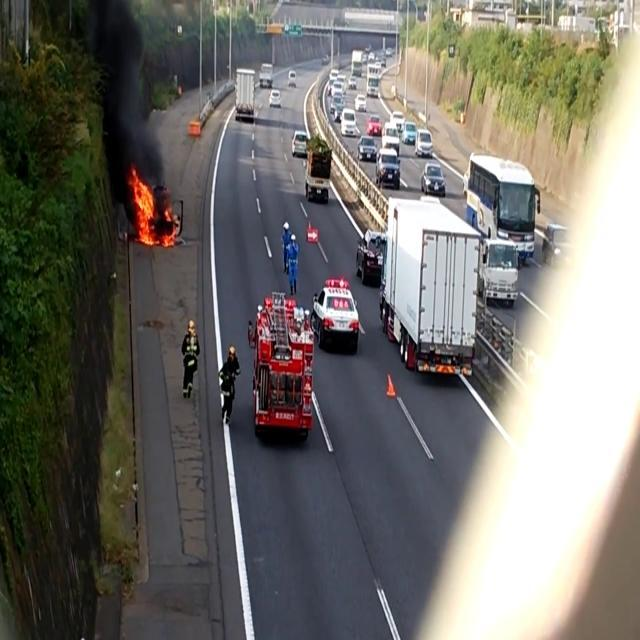Fire: (128, 164, 179, 248)
Smoke: (80, 0, 167, 177)
